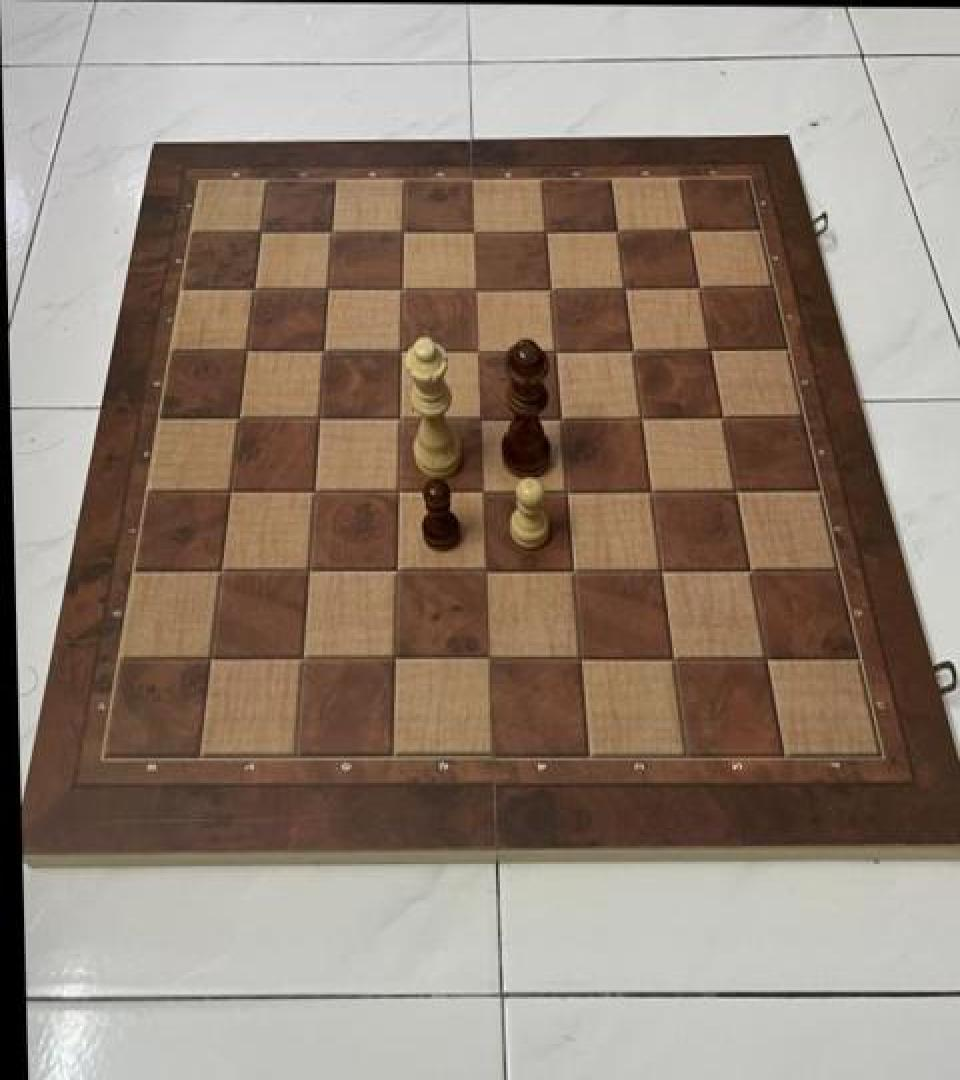xcorner: (645, 552, 677, 589), (735, 552, 767, 589), (245, 215, 277, 251), (315, 214, 347, 250), (386, 214, 418, 250), (457, 214, 489, 250), (672, 212, 704, 248), (238, 271, 270, 307), (311, 271, 343, 307), (385, 270, 417, 306), (459, 270, 491, 306), (533, 270, 565, 306), (608, 269, 640, 305), (682, 269, 714, 305), (231, 332, 263, 368), (307, 332, 339, 368), (384, 332, 416, 368), (461, 332, 493, 368), (538, 331, 570, 367), (616, 331, 648, 367), (694, 331, 726, 367), (223, 398, 255, 434), (303, 398, 335, 434), (383, 398, 415, 434), (463, 398, 495, 434), (544, 398, 576, 434), (625, 398, 657, 434), (706, 398, 738, 434), (214, 472, 246, 508), (298, 472, 330, 508), (381, 472, 413, 508), (465, 472, 497, 508), (550, 472, 582, 508), (635, 472, 667, 508), (720, 472, 752, 508), (205, 551, 237, 587), (292, 551, 324, 587), (380, 551, 412, 587), (468, 551, 500, 587), (556, 551, 588, 587), (195, 638, 227, 674), (286, 639, 318, 675), (378, 639, 410, 675), (471, 639, 503, 675), (564, 640, 596, 676), (657, 640, 689, 676), (751, 641, 783, 677), (528, 213, 560, 248), (600, 213, 632, 248)
